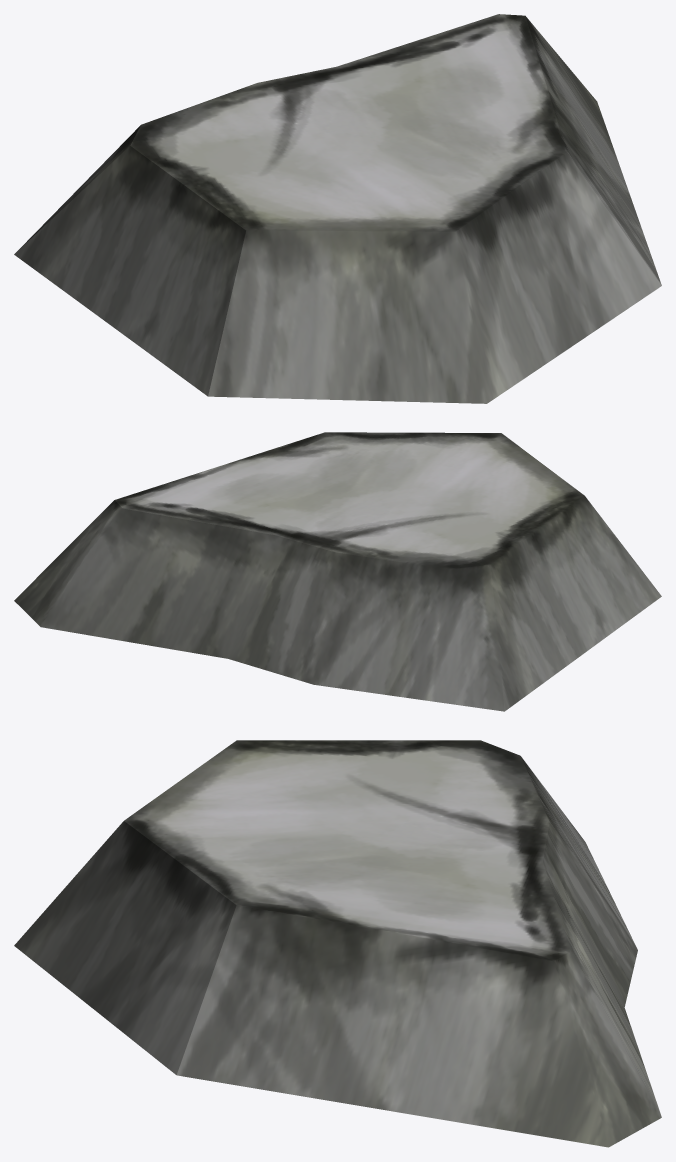
Rendered from DEC_StepStoneA.FBX.
3 renders of one model, top to bottom at view 1: azimuth 30°, elevation 25°; view 2: azimuth 150°, elevation 25°; view 3: azimuth 270°, elevation 25°, orthographic. The views are drawn at different scales.
Visible parts, largest first — view 1: DEC_StoneStepA; view 2: DEC_StoneStepA; view 3: DEC_StoneStepA.
Part boxes in pixels (x1,y1,x2,y2): DEC_StoneStepA: [14, 14, 661, 403]; DEC_StoneStepA: [14, 432, 661, 711]; DEC_StoneStepA: [14, 740, 661, 1147].
Bounding box in the file's own units: 99.67 × 20.66 × 89.33.
